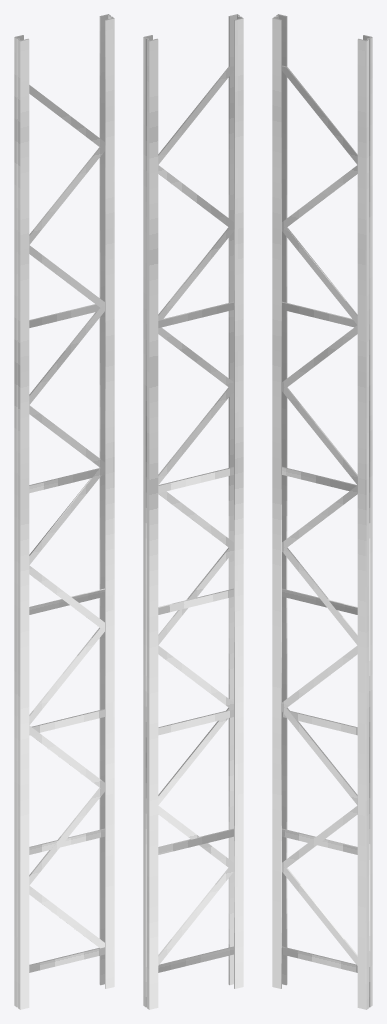
File: StorageRackNarrowBeams.glb
3 views of the same model, side by side, from view 1: azimuth 30°, elevation 25°; view 2: azimuth 210°, elevation 25°; view 3: azimuth 330°, elevation 25° (orthographic).
Parts seen in each view (by area): view 1: StorageRackNarrowBeams; view 2: StorageRackNarrowBeams; view 3: StorageRackNarrowBeams.
Part boxes in pixels (bbox=[...]): StorageRackNarrowBeams: bbox=[14, 14, 114, 1009]; StorageRackNarrowBeams: bbox=[143, 14, 243, 1009]; StorageRackNarrowBeams: bbox=[272, 14, 372, 1009].
Size of the model in its own units: 0.612 by 6 by 0.0683.
1 material, 1 textured.
